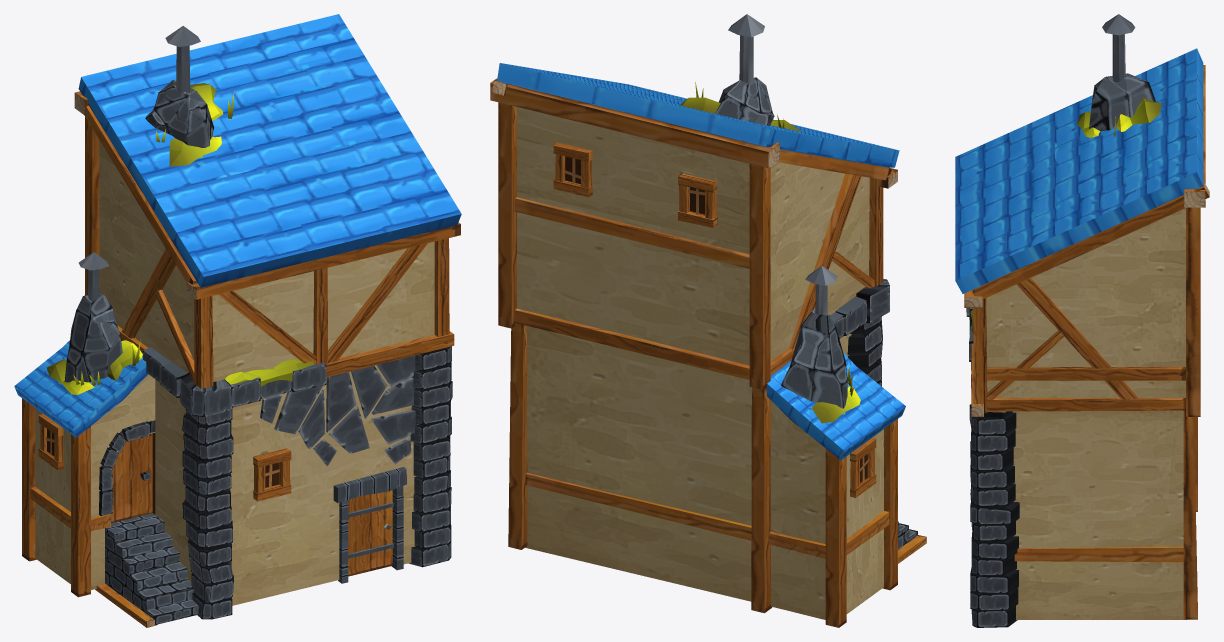
File: hut_02.fbx
3 renders of one model, left to right at view 1: azimuth 30°, elevation 25°; view 2: azimuth 150°, elevation 25°; view 3: azimuth 270°, elevation 25°, orthographic. The views are drawn at different scales.
Visible parts, largest first — view 1: hut_02, hut_rocks_02.001, hutbulks_02, grass.001, door_02; view 2: hut_02, hutbulks_02, hut_rocks_02.001, grass.001; view 3: hut_02, hutbulks_02, hut_rocks_02.001, grass.001.
Part boxes in pixels (box(x1,y1,x2,y2)): hut_02: box(14, 14, 461, 605); hut_rocks_02.001: box(45, 80, 452, 624); hutbulks_02: box(22, 26, 460, 627); grass.001: box(46, 83, 314, 394); door_02: box(348, 490, 393, 576); hut_02: box(497, 63, 905, 619); hutbulks_02: box(490, 14, 926, 627); hut_rocks_02.001: box(564, 77, 917, 549); grass.001: box(680, 82, 860, 423); hut_02: box(955, 48, 1203, 619); hutbulks_02: box(964, 14, 1209, 619); hut_rocks_02.001: box(966, 73, 1155, 627); grass.001: box(970, 98, 1161, 333).
Size of the model in its own units: 433 by 660 by 292.
